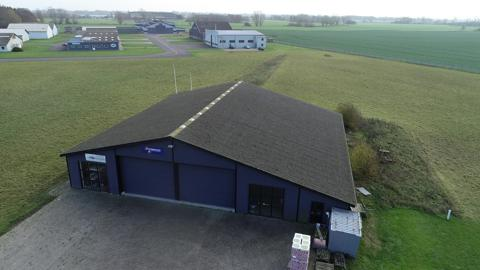RockwoolPallet: (290, 233, 312, 270)
